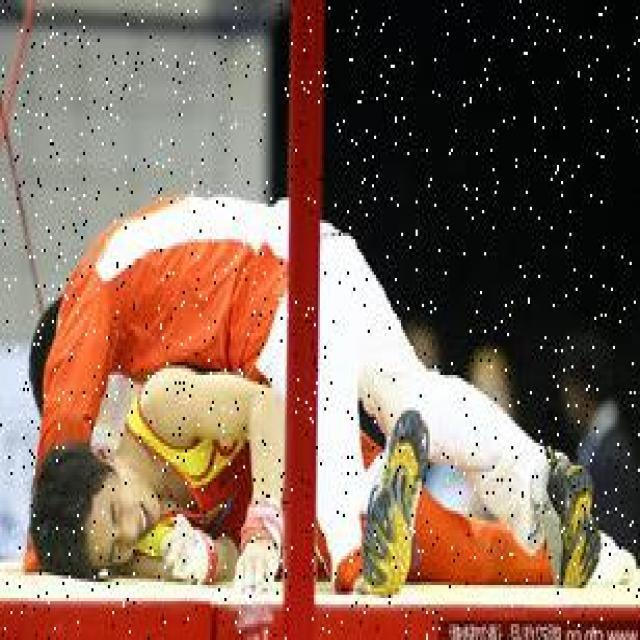fall: (56, 372, 572, 578)
